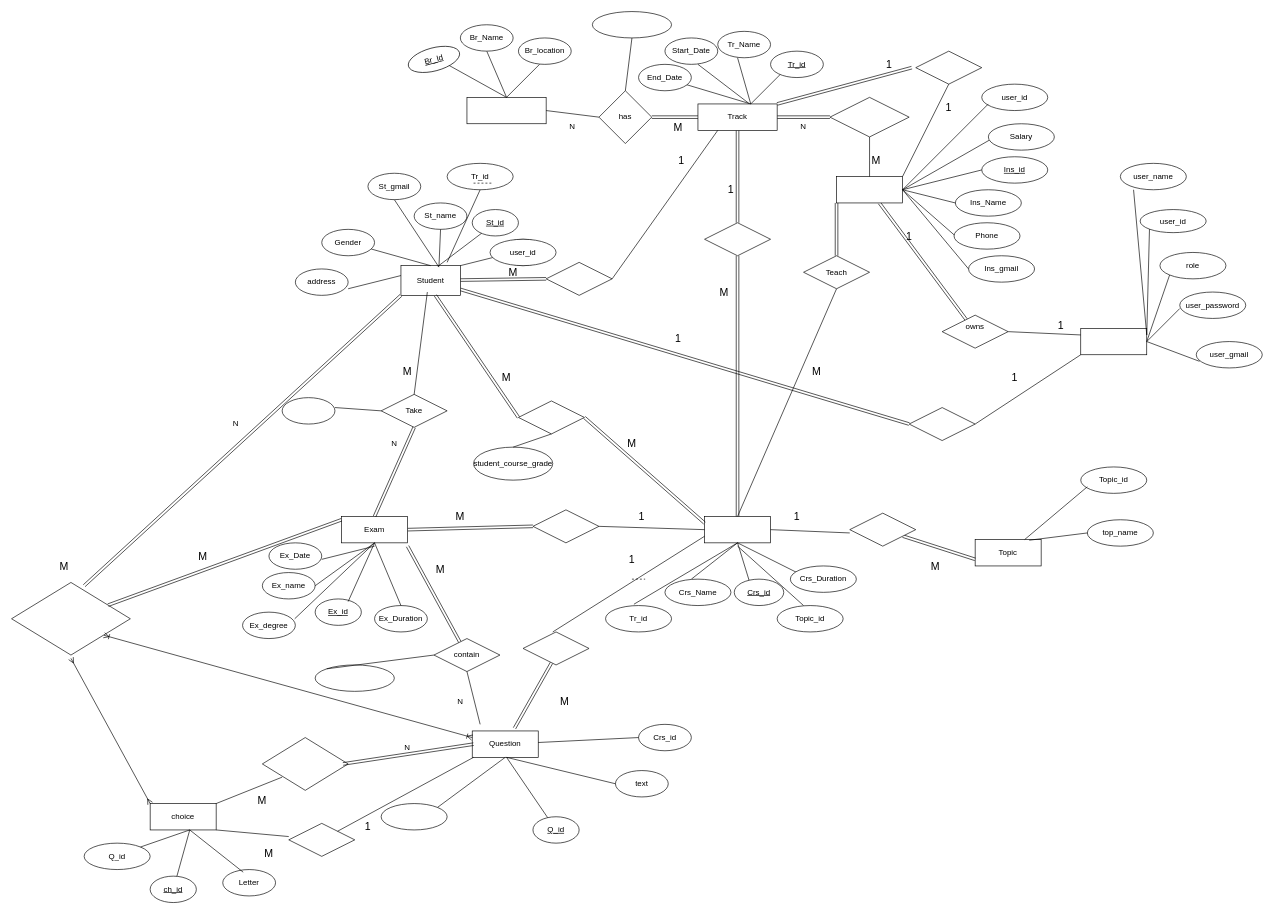
Image size: 1274x914. Some labels were removed from this diagram. The shapes that lost their labels are listed below. From the top down, each one's box as (x1, y1, x2, y2) in pixels, then its label:
(592, 11, 672, 38): track_openingDate
(915, 50, 982, 84): Manage
(466, 97, 546, 124): branch
(829, 97, 909, 137): assign
(836, 176, 903, 203): Instructor
(704, 222, 771, 256): Include
(545, 262, 612, 295): Enroll
(1080, 328, 1147, 355): user_account
(281, 397, 335, 424): grade
(518, 400, 584, 434): Study
(908, 407, 975, 441): belongs to
(532, 509, 599, 543): Evaluate
(704, 516, 771, 543): Course
(849, 512, 916, 546): covers
(11, 582, 130, 655): StudentAnswer_question
(522, 631, 589, 665): associate
(314, 664, 394, 691): Degree
(262, 737, 348, 790): Question_Choices
(380, 803, 447, 830): Q_type
(288, 823, 355, 856): correct_answer
